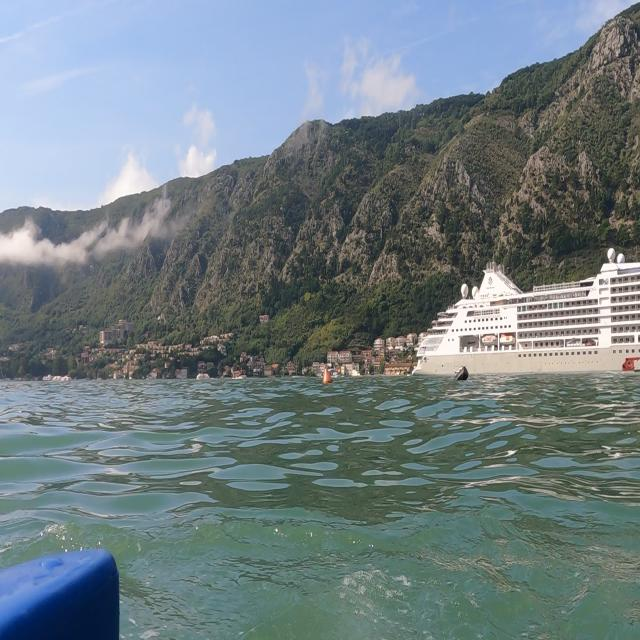boat: (409, 245, 638, 380)
buoy: (450, 358, 472, 390), (321, 363, 334, 390)
